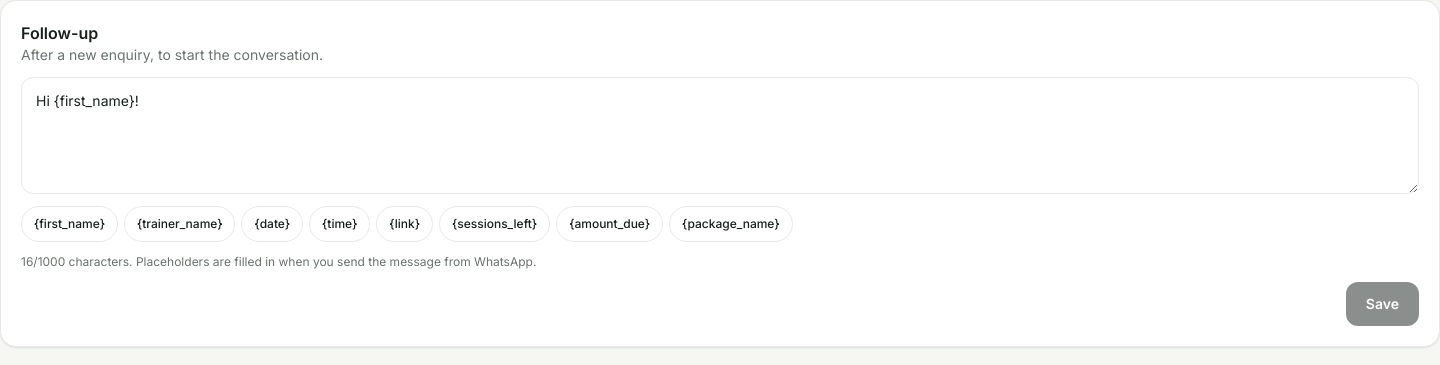
Test: TemplateEditor › inserts a placeholder at the cursor
The image size is (1440, 365).
Step 1. Click the button "{trainer_name}" → (180, 224), box [124,206,235,242]
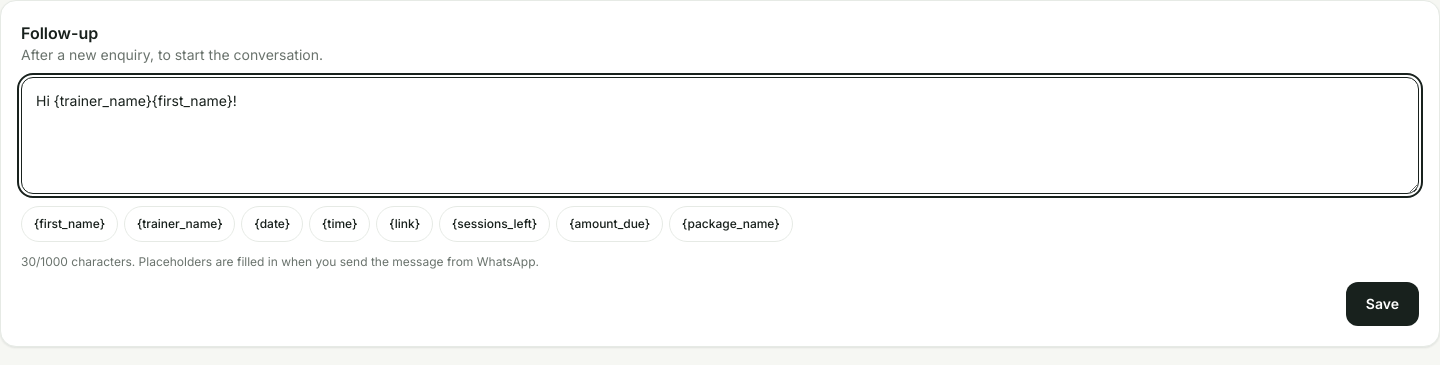
expect the text box labelled "Follow-up" holds "Hi {trainer_name}{first_name}!": met, box [21,77,1419,194]
expect the button "Save" is enabled: met, box [1346,282,1419,326]
